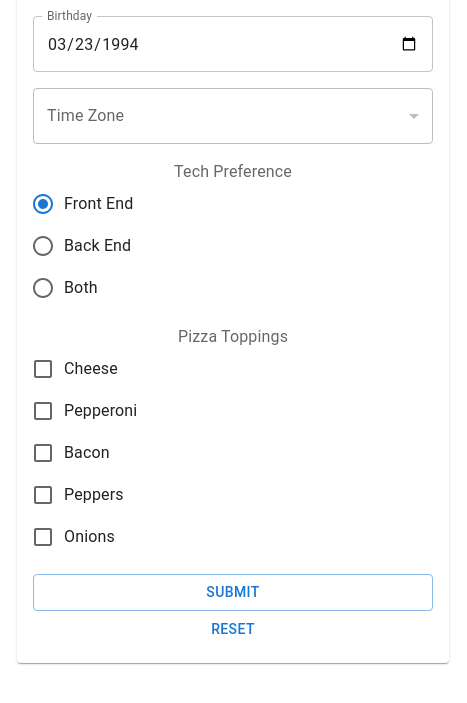
Scenario: App › with invalid Password input displays error
(page scrolled)
Expected: the text "password must be 8 or more chars" is not shown
Click the button "Submit".
click(233, 592)  # box x1=33 y1=574 x2=433 y2=610
(page scrolled)
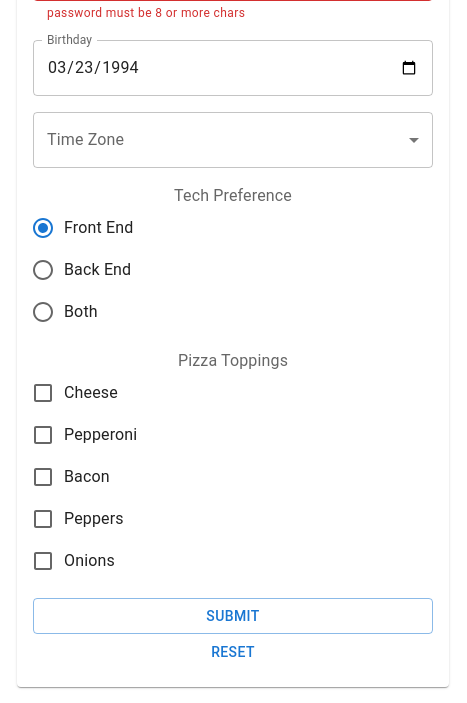
Now the text "password must be 8 or more chars" is shown, box x1=47 y1=6 x2=245 y2=20
